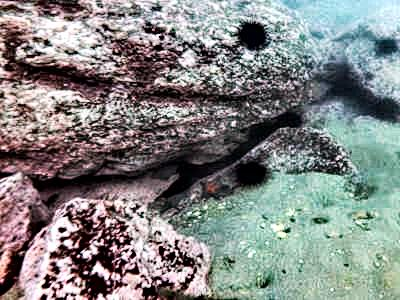urchin: (235, 19, 269, 50), (366, 91, 394, 123), (234, 160, 267, 187)
